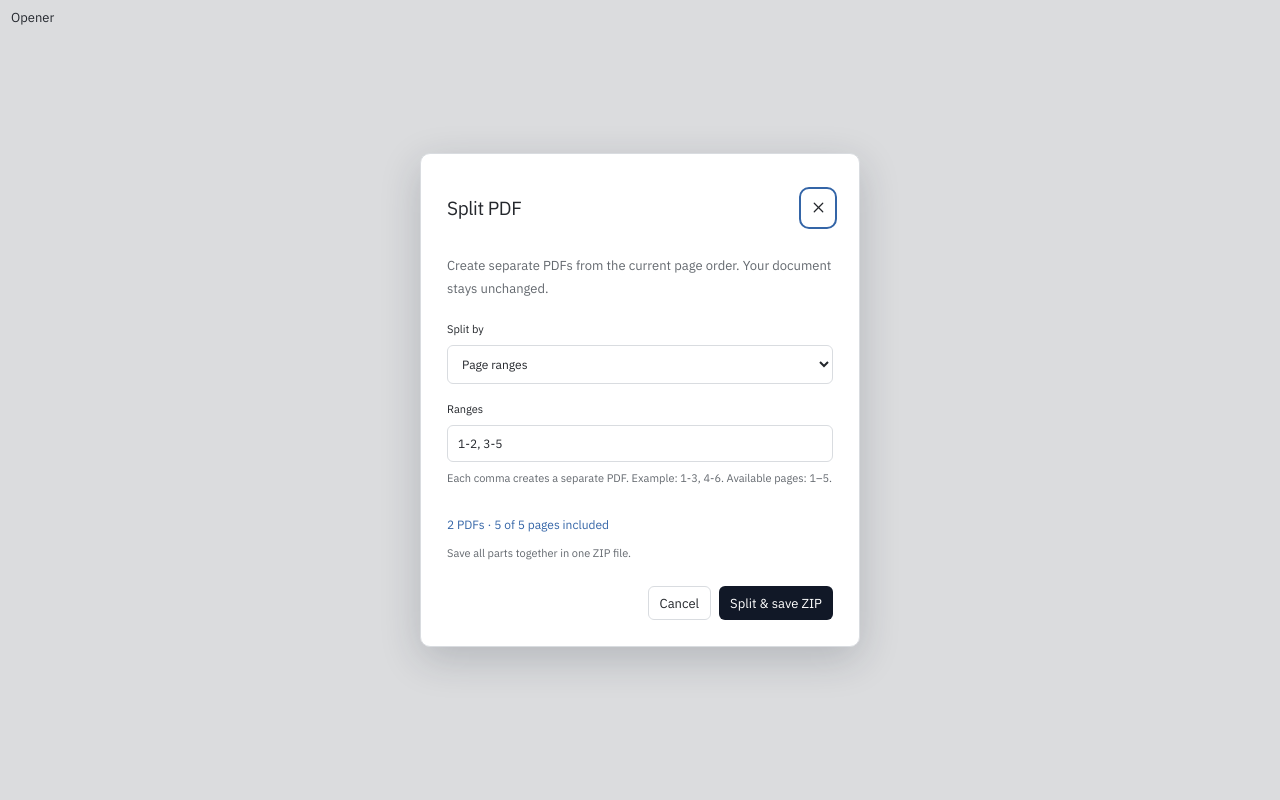
Scenario: SplitDialog › a failed save shows the error inline
Click the button "Split & save ZIP".
click(776, 603)  # box 719,586 -> 833,620
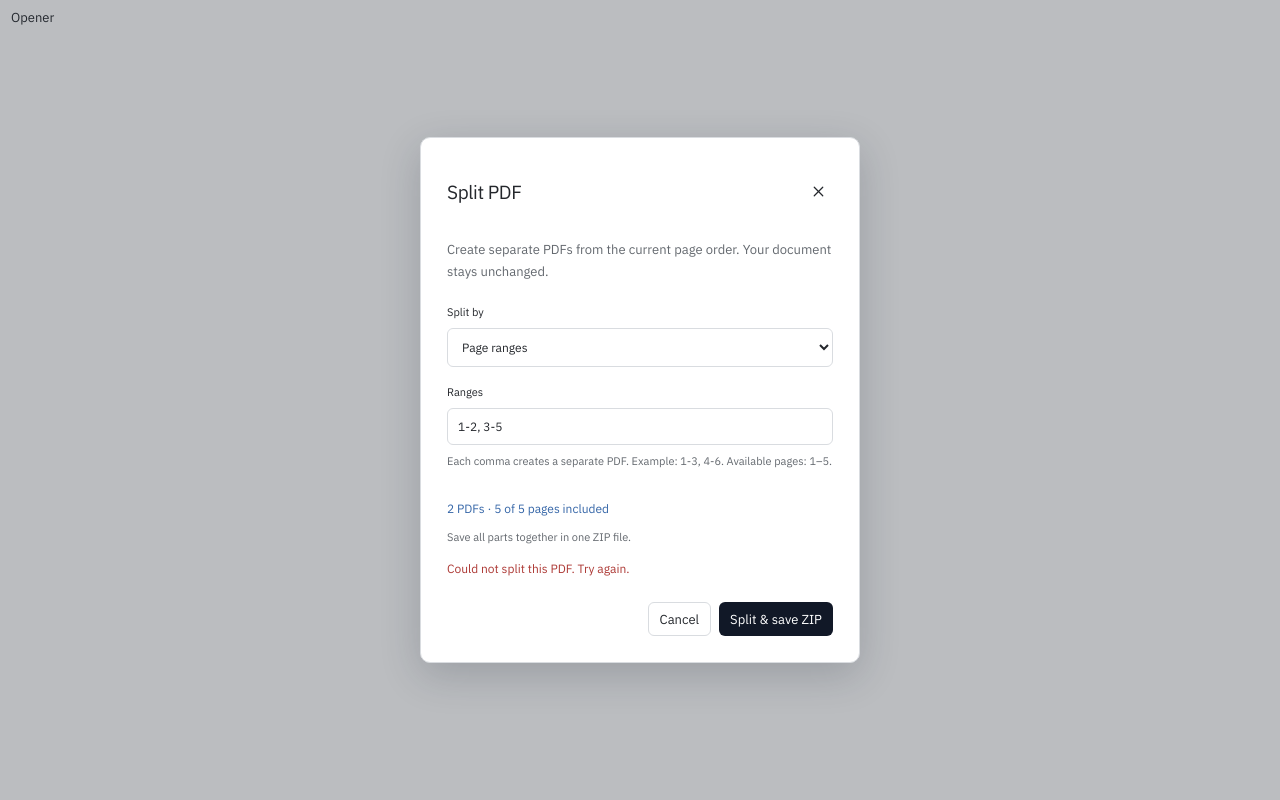
Expected: the button "Split & save ZIP" is enabled, 719,602 -> 833,636
Now the message reads "Could not split this PDF. Try again.", box 447,561 -> 630,576
